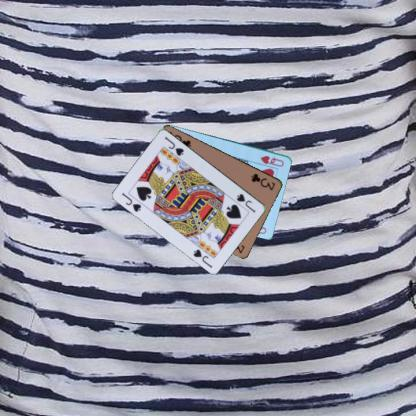3c: (248, 170, 277, 192)
Js: (234, 191, 257, 214), (119, 190, 142, 213)
Qh: (258, 153, 286, 168)
